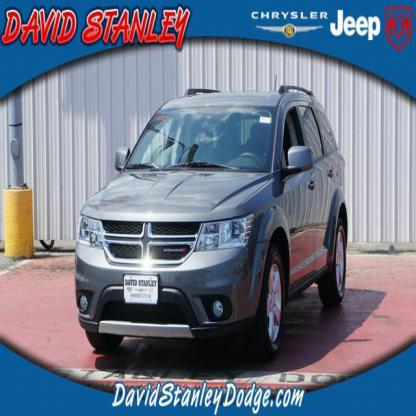Vehicle: (76, 88, 350, 357)
